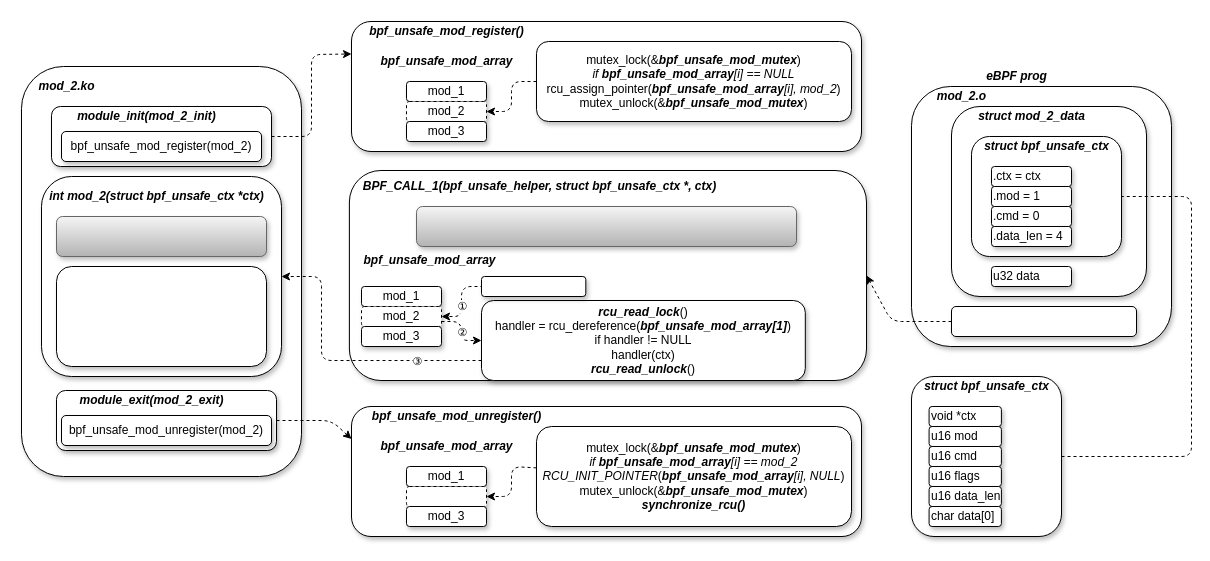
This 1210x561 diagram has some shape labels left out. Each missing label, with the centre of its shape:
"bpf_unsafe_helper(mod_2_data)" belongs at [1044,323].
"ctx->mod" belongs at [534,288].
"if !sysctl_bpf_unsafe_helper_enable || !capable(CAP_SYS_ADMIN) return -EPERM" belongs at [607,228].
"if ctx->mod != 1 || ctx->data_len != 4 return -1" belongs at [162,238].
"NULL" belongs at [447,498].
"switch ctx->cmd { case 0: return cmd_0_handler(ctx->data) default: return -1 }" belongs at [162,318].
